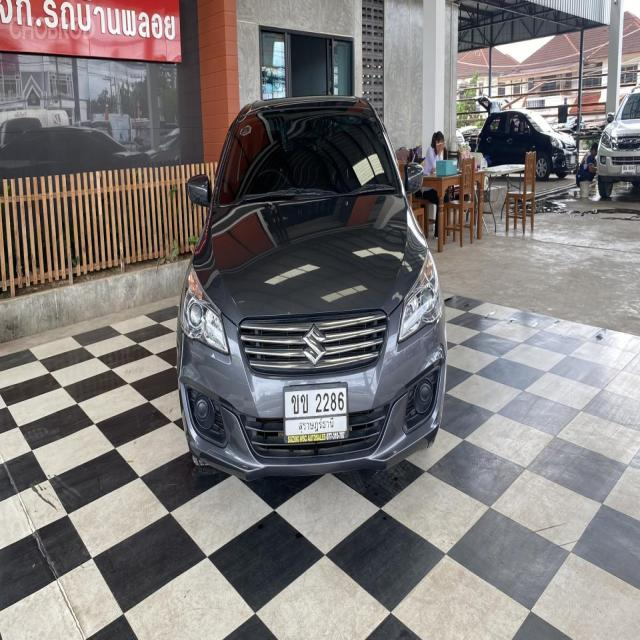license_plate: (281, 383, 348, 443), (620, 159, 637, 180)
